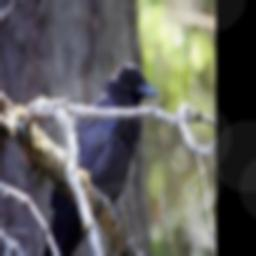Crow: (40, 63, 157, 256)
